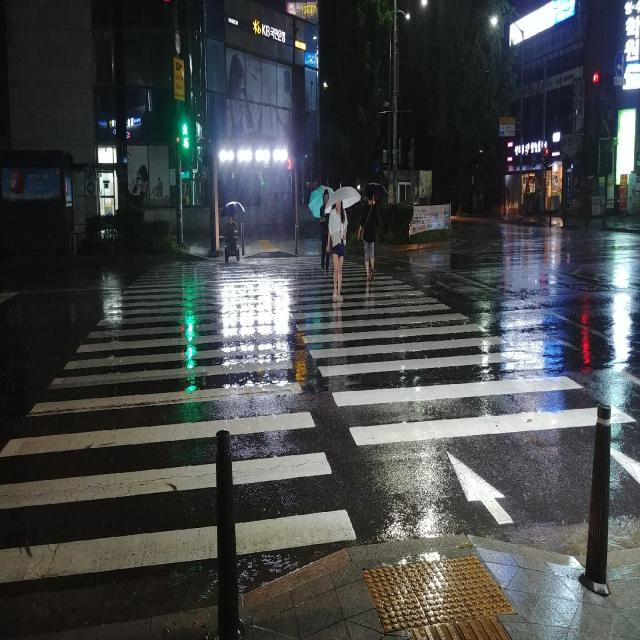초록불: (176, 102, 191, 156)
횡단보도: (0, 258, 640, 584)
